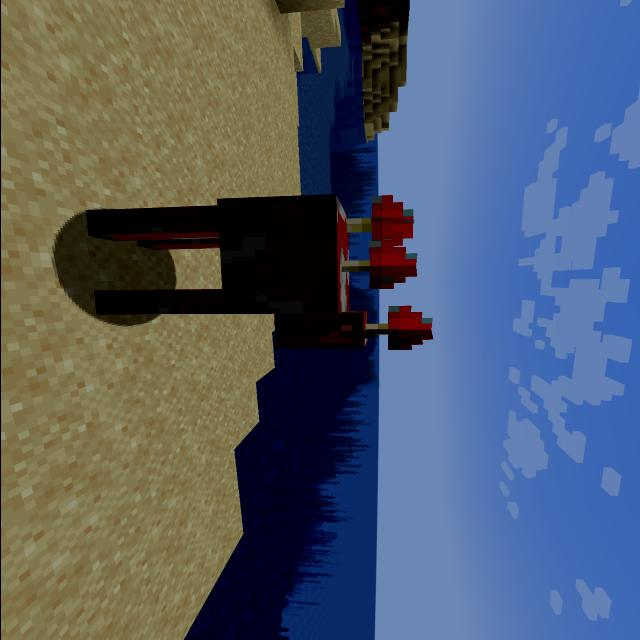Mooshroom: (47, 184, 441, 358)
